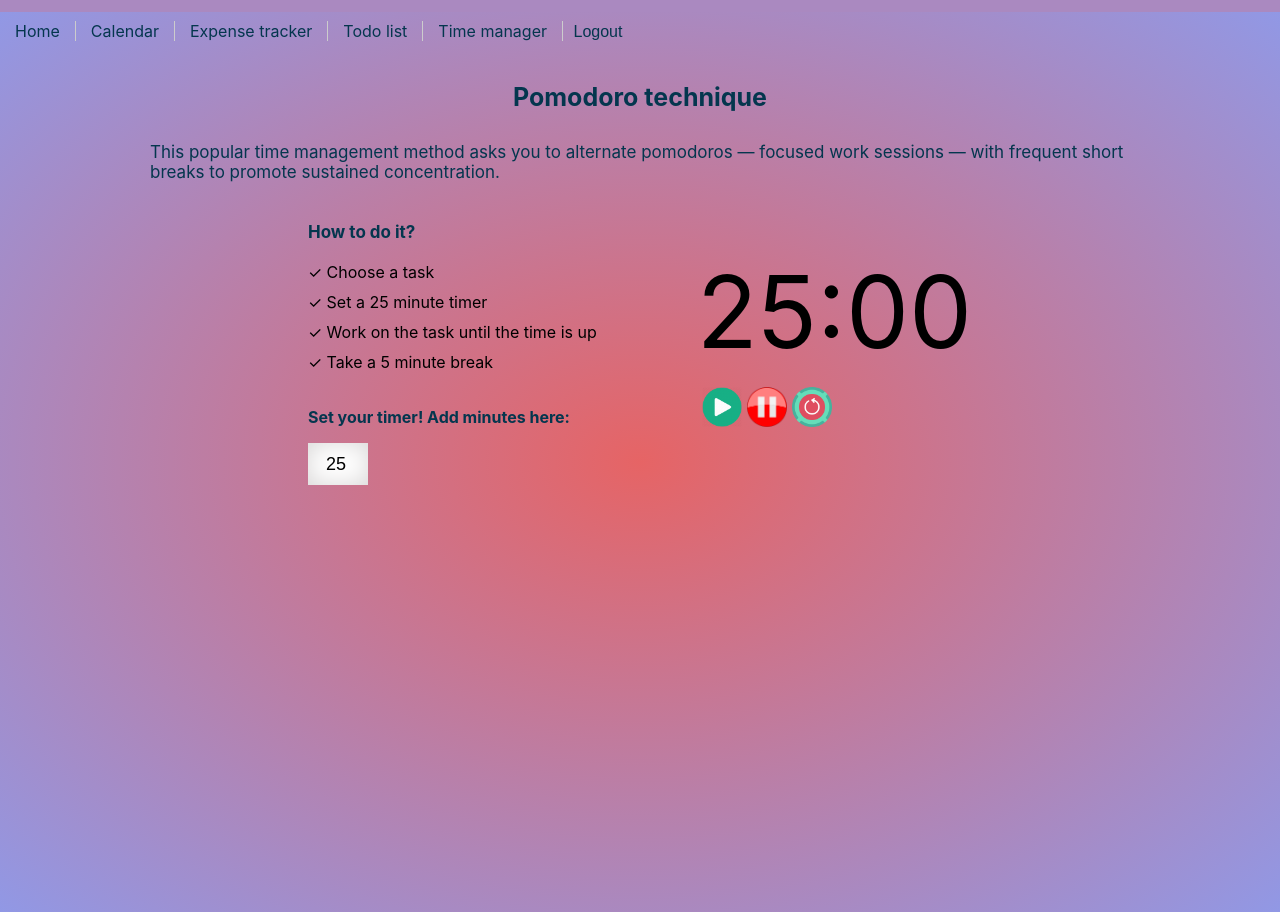
start button starts the timer
Step 1. Click the picture with alt text "start" → (722, 407), box [702,387,742,427]
Wait 1000 ms
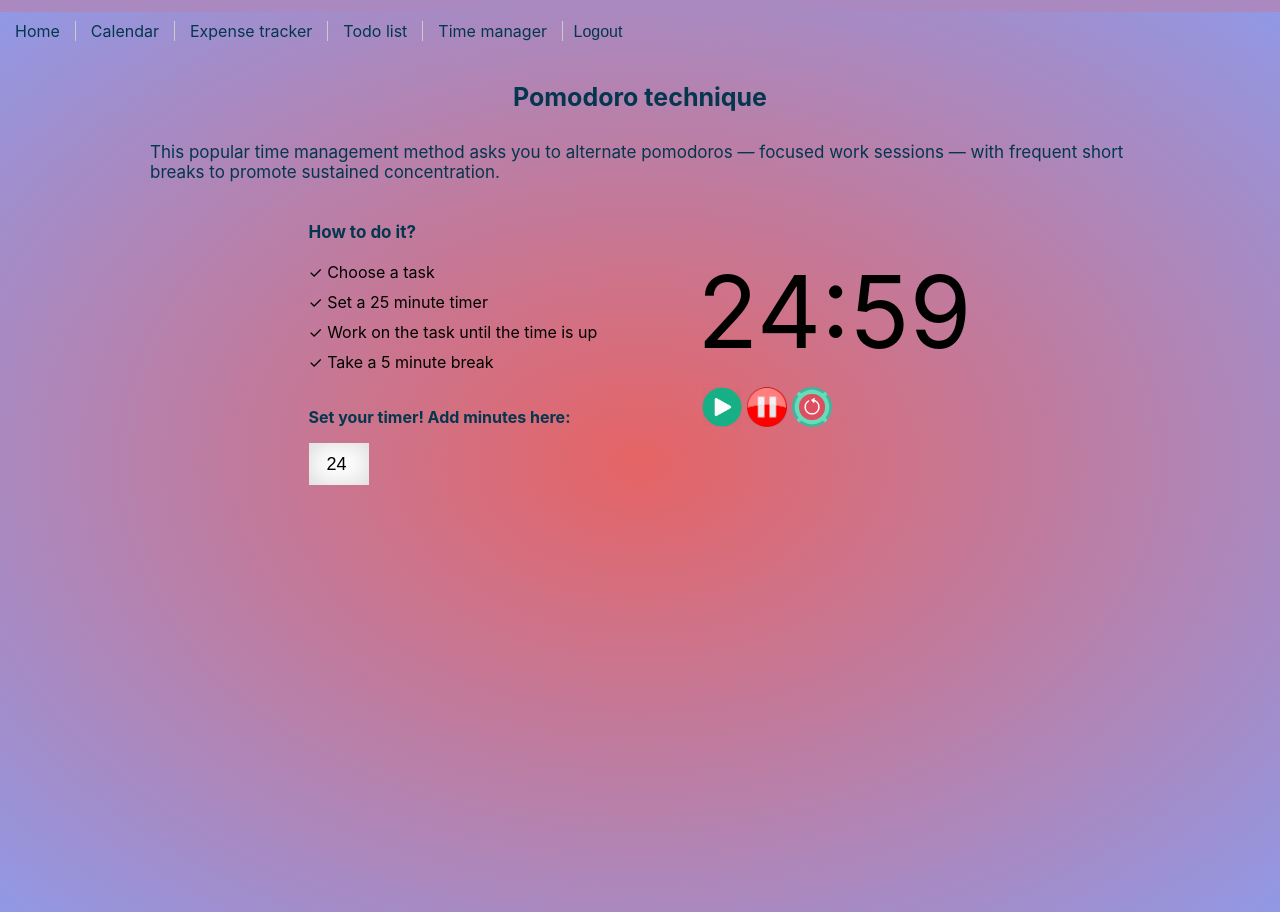
Expected: the text with test id "tid" reads "24:59", [697,251,972,372]
